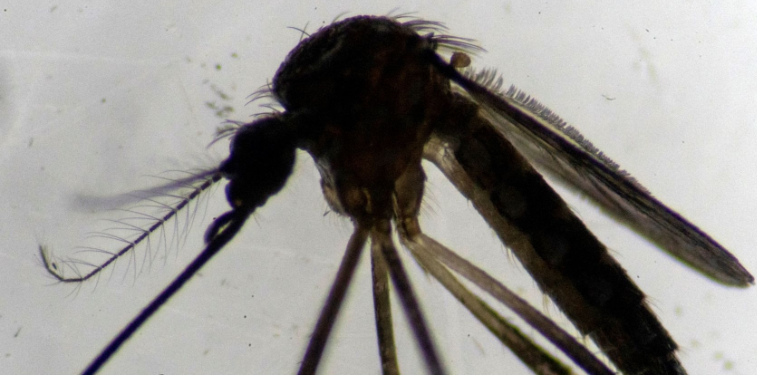dengue_mosquito: (37, 10, 754, 370)
